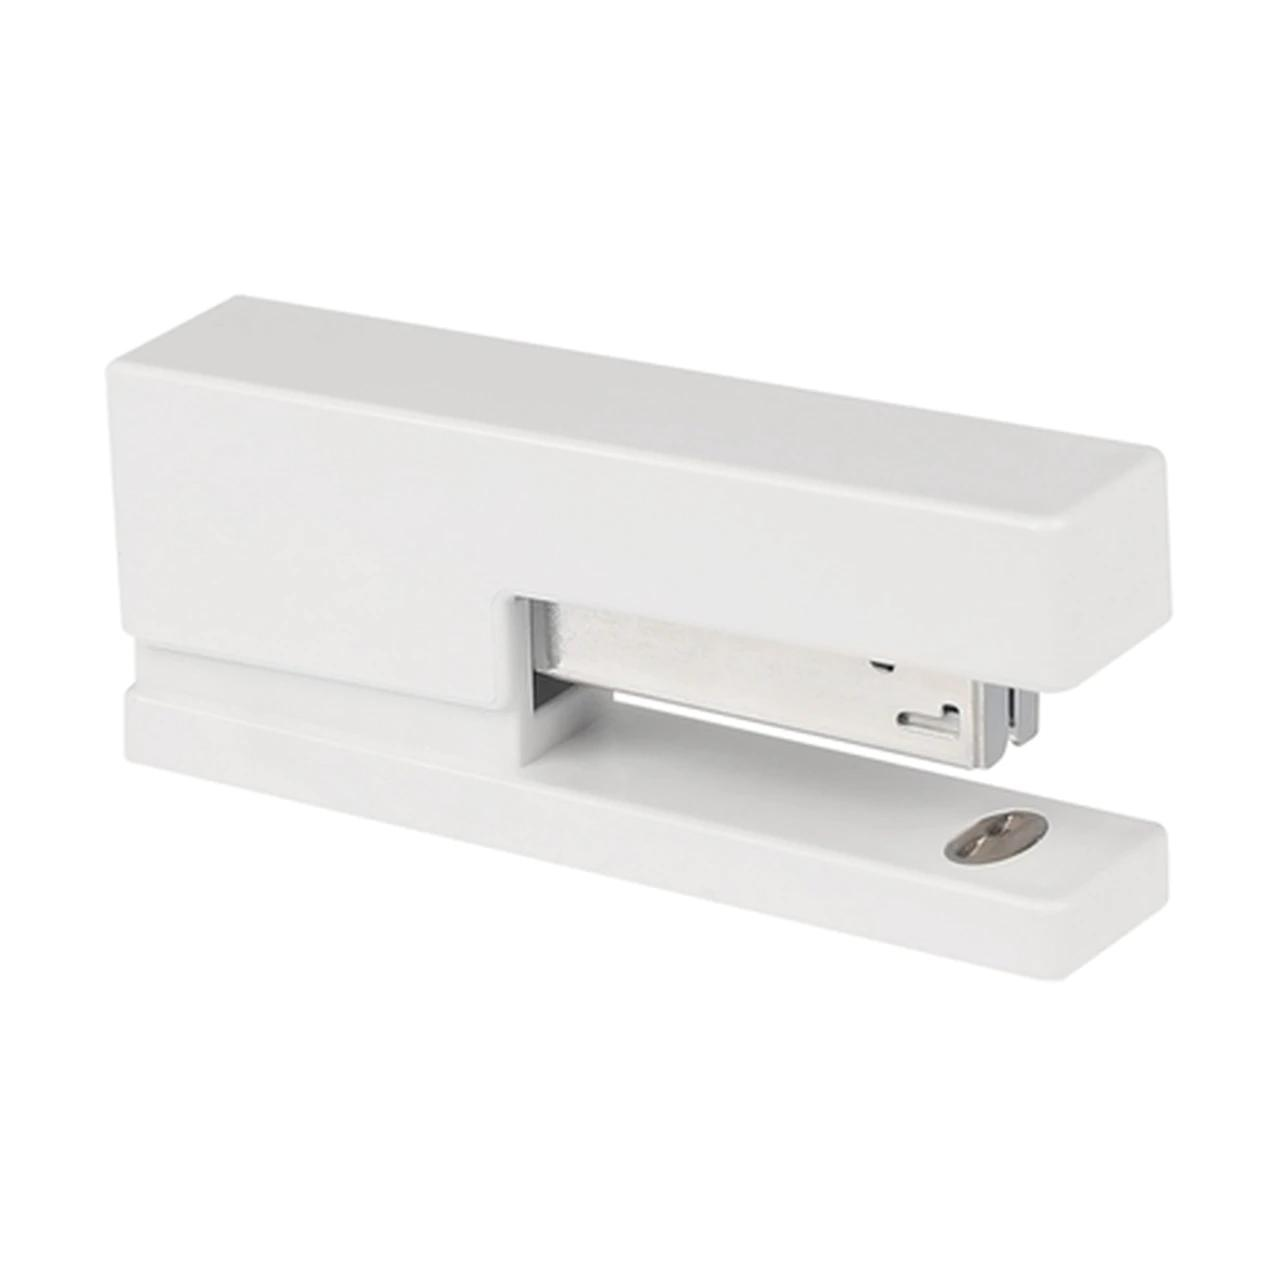Stapler: (76, 265, 1205, 1008)
